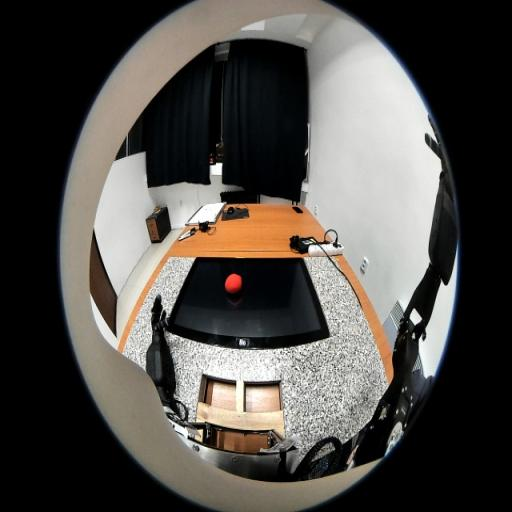LeftHand: (152, 313, 164, 331)
Tomato: (225, 272, 243, 294)
